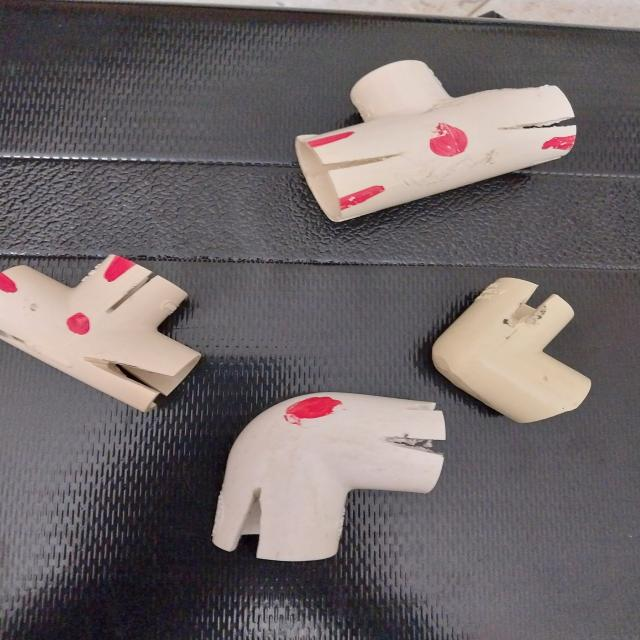Defective: (69, 328, 182, 416), (82, 356, 176, 404), (497, 120, 578, 152), (15, 262, 98, 293), (232, 487, 266, 562), (158, 292, 198, 345), (382, 433, 449, 463), (321, 152, 407, 172), (332, 185, 388, 213), (431, 127, 466, 157), (286, 401, 338, 421), (341, 189, 386, 206), (313, 133, 363, 148), (68, 312, 93, 336), (106, 259, 137, 275), (539, 137, 572, 151), (0, 276, 16, 293)
L Joint: (207, 392, 446, 564), (427, 276, 588, 426)
T Joint: (305, 57, 580, 220), (4, 249, 207, 418), (395, 0, 640, 32)
